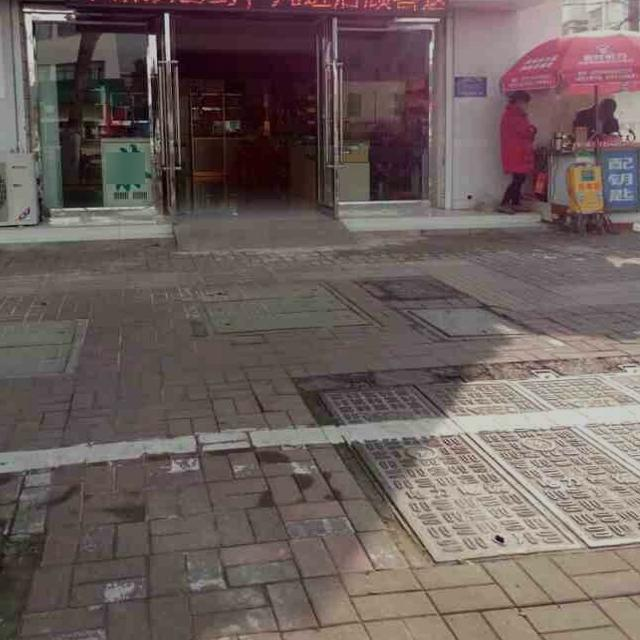good: (296, 362, 640, 562), (187, 277, 387, 335), (0, 319, 87, 381)
